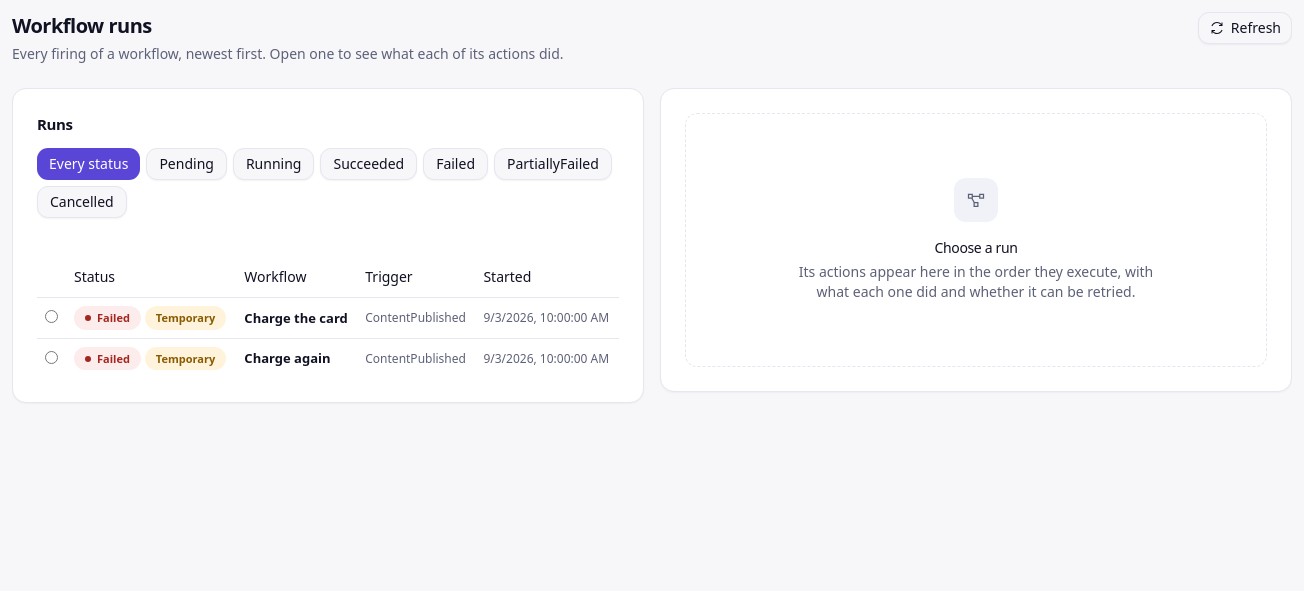
Test: a run rolled back, as contract 8 reports it › offers no retry, which the API refuses on a run being undone, and says how the undoing went
Click the radio button named "Charge the card". click: (52, 316)
box: [45, 310, 58, 323]
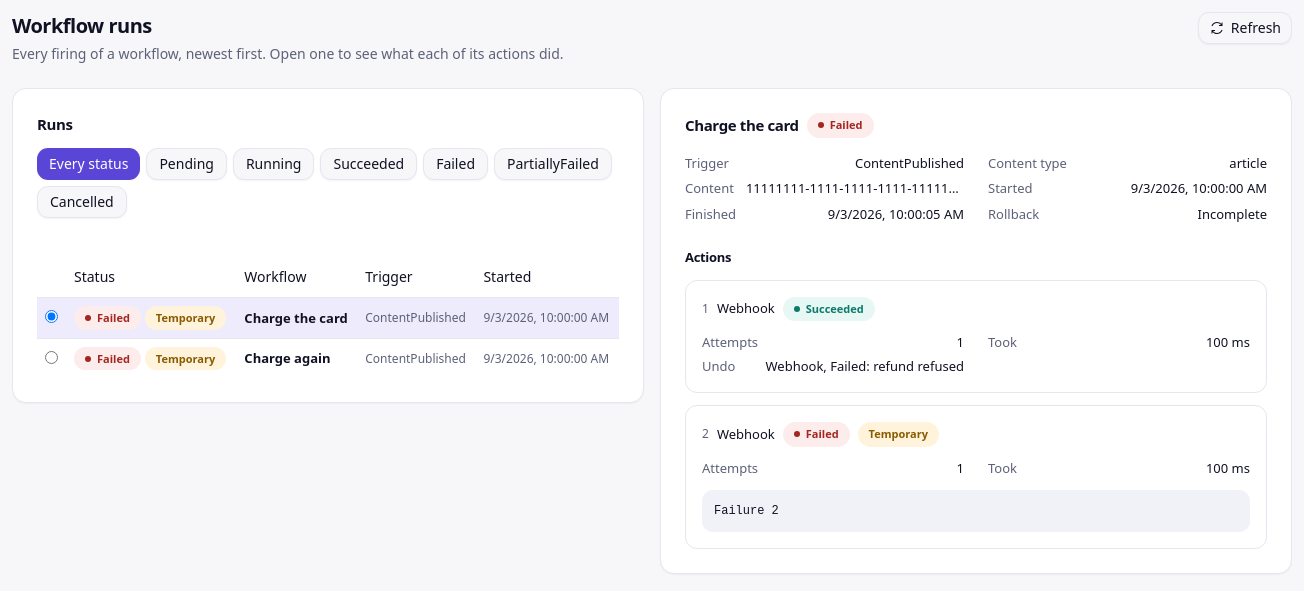
Expected: the number of list items is 2, [685, 280, 1267, 393]; [685, 405, 1267, 549]
Expected: the text "Incomplete" is shown, [1198, 204, 1267, 224]
Expected: the text "Webhook, Failed: refund refused" is shown, [766, 356, 964, 376]
